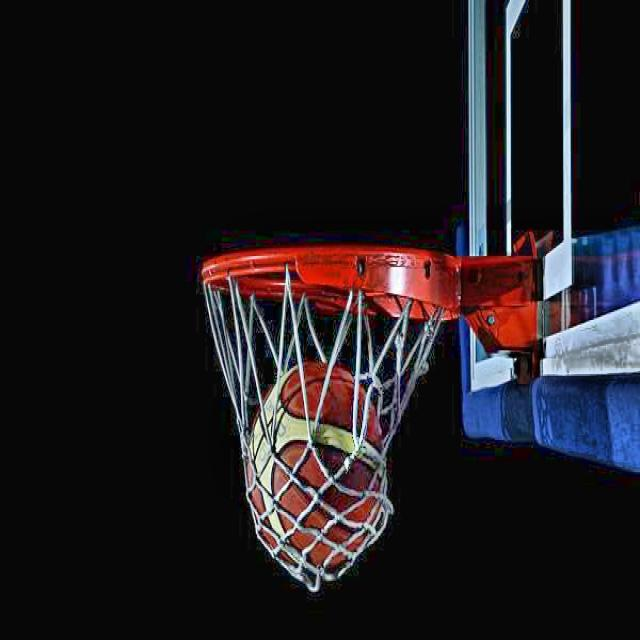rim: (200, 247, 458, 582)
